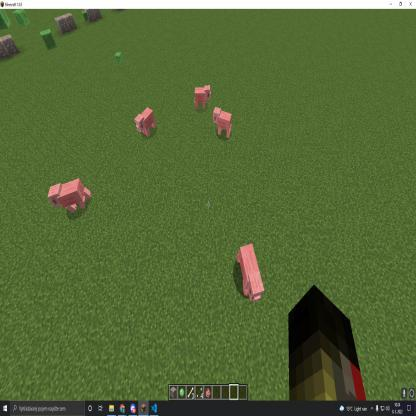pig: (44, 175, 100, 220), (233, 238, 266, 312), (132, 105, 158, 141), (212, 104, 234, 142), (191, 82, 212, 113)
